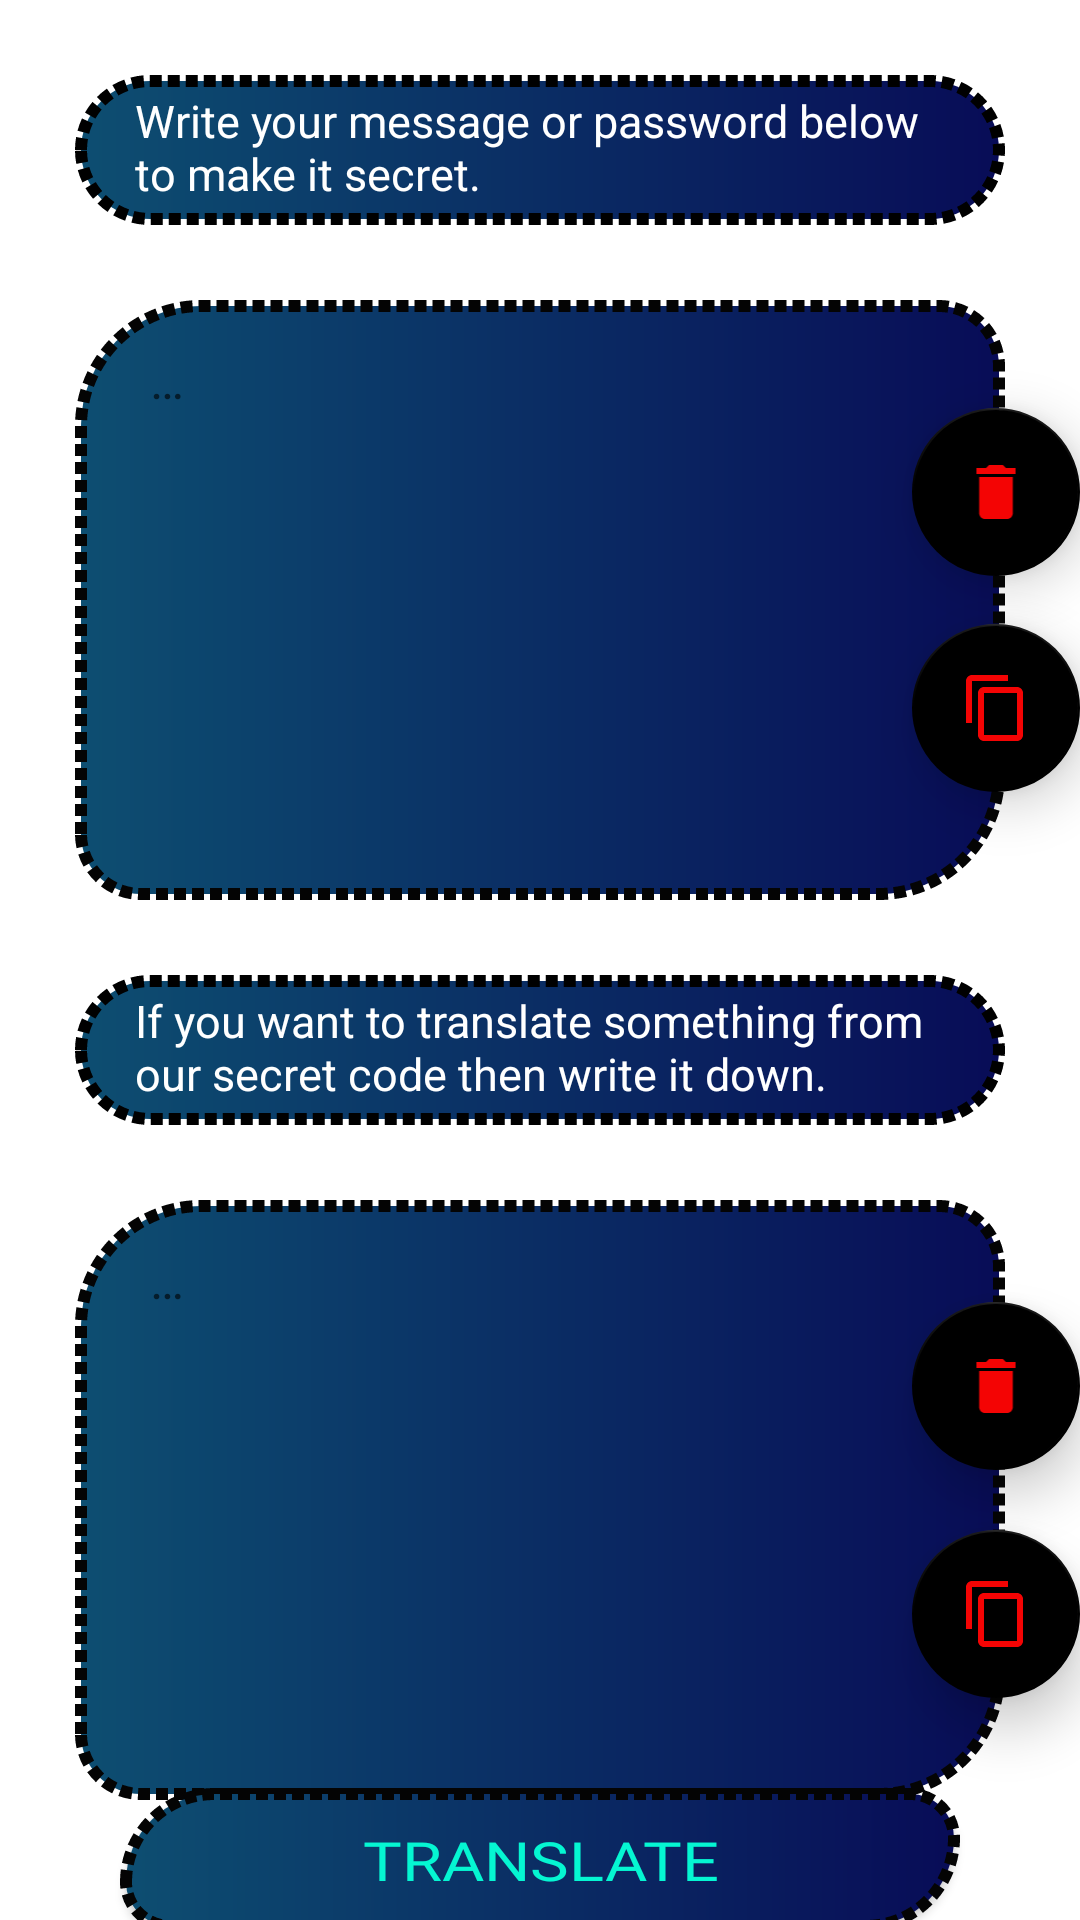

Screen size 1080 x 1920. Icon name, then its box in pixels as (x1, y1, x2, y2):
Copy text in the box: (912, 624, 1080, 792), (912, 1530, 1080, 1698)
Delete text in the box: (912, 408, 1080, 576), (912, 1302, 1080, 1470)
